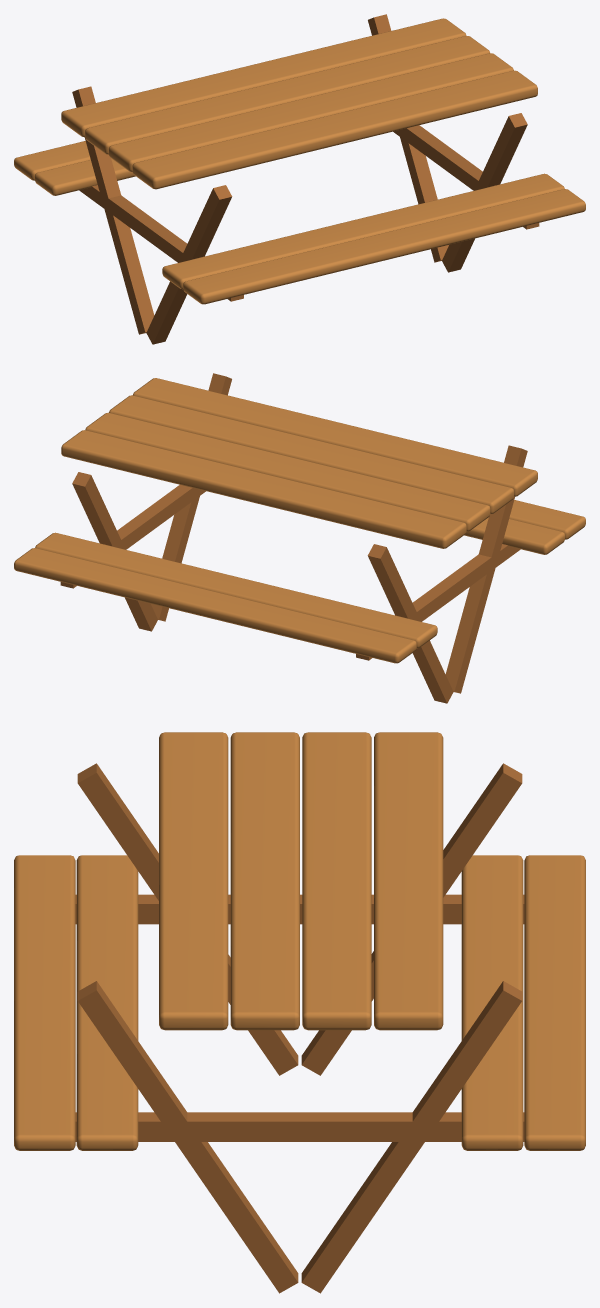
File: PicnicTable.fbx
The picture shows the model from 3 angles, top to bottom: view 1: azimuth 30°, elevation 25°; view 2: azimuth 150°, elevation 25°; view 3: azimuth 270°, elevation 25°; orthographic projection. The views are drawn at different scales.
Visible parts, largest first — view 1: PicnicTable; view 2: PicnicTable; view 3: PicnicTable.
Part boxes in pixels (left/top/right/bottom): PicnicTable: left=14, top=14, right=585, bottom=344; PicnicTable: left=14, top=373, right=585, bottom=703; PicnicTable: left=14, top=732, right=585, bottom=1293.
Size of the model in its own units: 6 by 3.03 by 5.11.
Materials: 1 (1 with a texture image).
